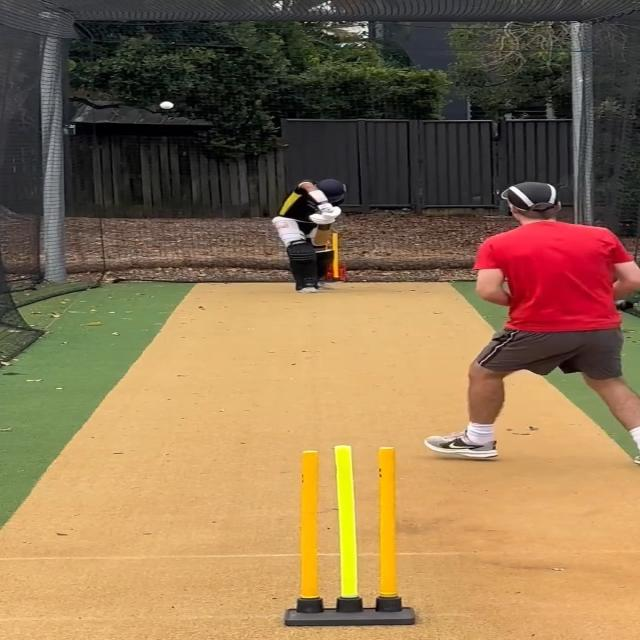ball: (158, 101, 174, 110)
stump: (284, 446, 412, 626)
